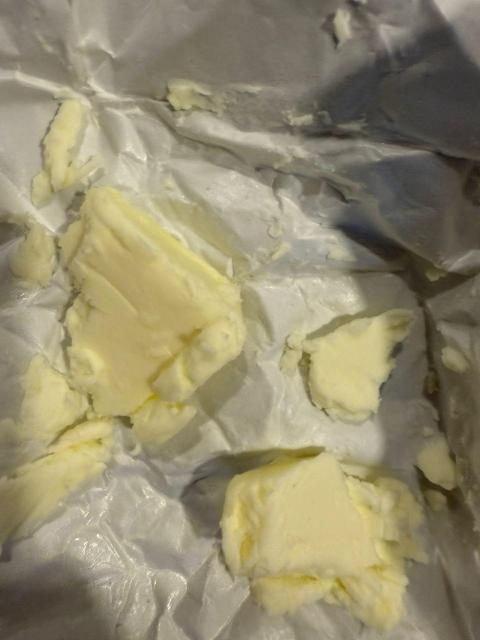Organik: (59, 209, 252, 393), (219, 464, 421, 609), (268, 305, 425, 424), (0, 423, 113, 544), (27, 115, 92, 213), (3, 363, 75, 437), (404, 447, 465, 513), (12, 208, 60, 285)
